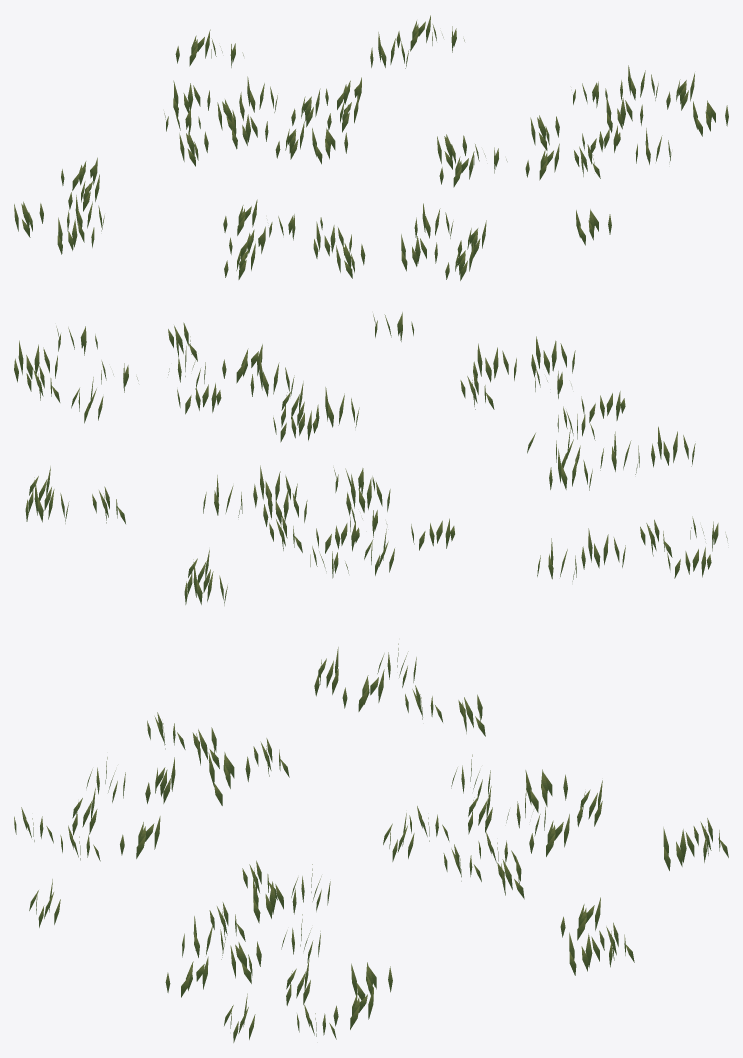
Rendered from plants_un_main_grass_set71_02.gltf.
3 renders of one model, top to bottom at view 1: azimuth 30°, elevation 25°; view 2: azimuth 150°, elevation 25°; view 3: azimuth 270°, elevation 25°, orthographic. The views are drawn at different scales.
Visible parts, largest first — view 1: plants_un_main_grass_set71_02_mesh_shape:plants_un_main_gras; view 2: plants_un_main_grass_set71_02_mesh_shape:plants_un_main_gras; view 3: plants_un_main_grass_set71_02_mesh_shape:plants_un_main_gras.
Boxes of the visible parts, <box> form: plants_un_main_grass_set71_02_mesh_shape:plants_un_main_gras: <box>14,15,728,280</box>; plants_un_main_grass_set71_02_mesh_shape:plants_un_main_gras: <box>14,312,727,605</box>; plants_un_main_grass_set71_02_mesh_shape:plants_un_main_gras: <box>14,643,728,1042</box>.
Size of what is drawn, in the model's own units: 9.09 by 0.4196 by 7.36.
Materials: 1 (1 with a texture image).
